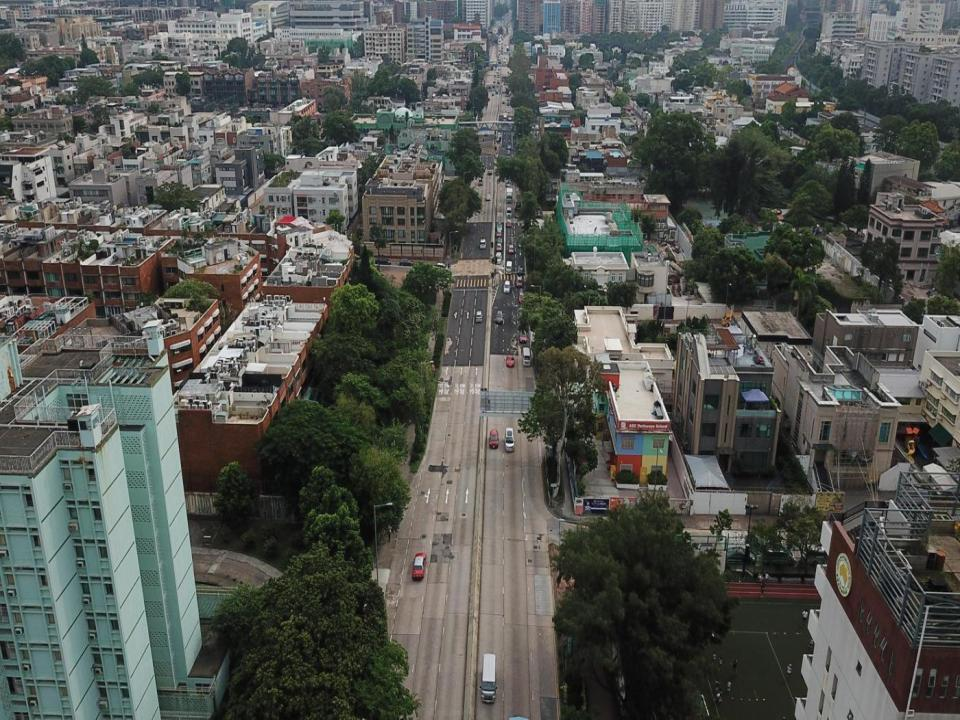car: (412, 552, 426, 580), (432, 262, 449, 272), (489, 430, 498, 448), (399, 258, 414, 266), (506, 354, 514, 368), (519, 329, 527, 343), (375, 258, 391, 265), (476, 310, 483, 322), (496, 311, 502, 324), (516, 275, 522, 288), (519, 292, 525, 303), (517, 266, 523, 275), (508, 245, 514, 254), (497, 237, 503, 245), (506, 220, 512, 228), (496, 244, 502, 251), (485, 194, 491, 201), (479, 176, 484, 184), (496, 223, 501, 230), (496, 230, 500, 236), (489, 170, 493, 175), (508, 144, 512, 149), (507, 149, 510, 155)
truck: (479, 654, 497, 704), (505, 187, 512, 204)
van: (503, 428, 515, 452), (522, 346, 531, 366), (503, 280, 511, 294), (495, 251, 502, 264), (506, 261, 512, 274), (479, 239, 486, 248), (506, 208, 512, 218)
